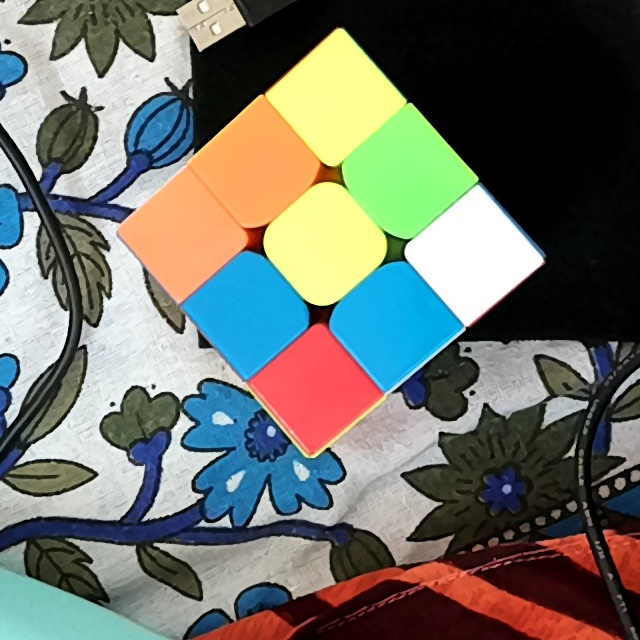tile: (369, 141, 439, 214), (224, 130, 293, 202), (359, 287, 427, 358), (214, 280, 283, 348), (151, 200, 214, 273), (442, 223, 508, 292), (293, 211, 356, 282), (283, 356, 351, 421), (303, 66, 369, 131)
